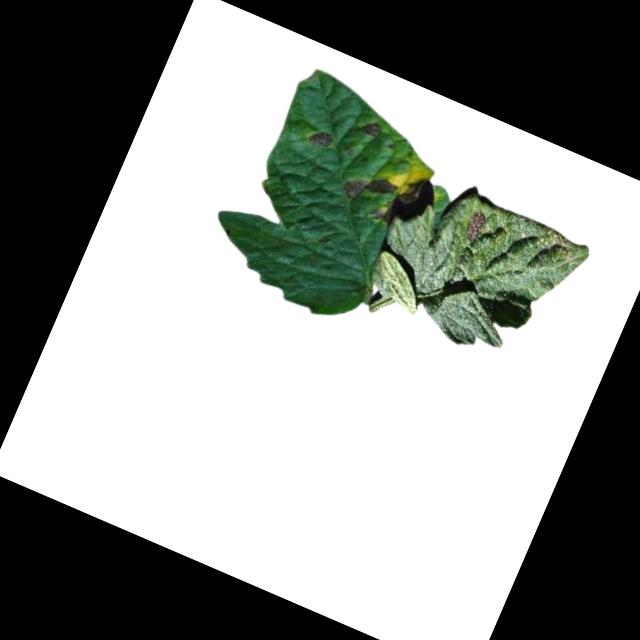Early_blight: (338, 161, 398, 211), (457, 204, 492, 247), (308, 123, 341, 155), (353, 114, 384, 140)
